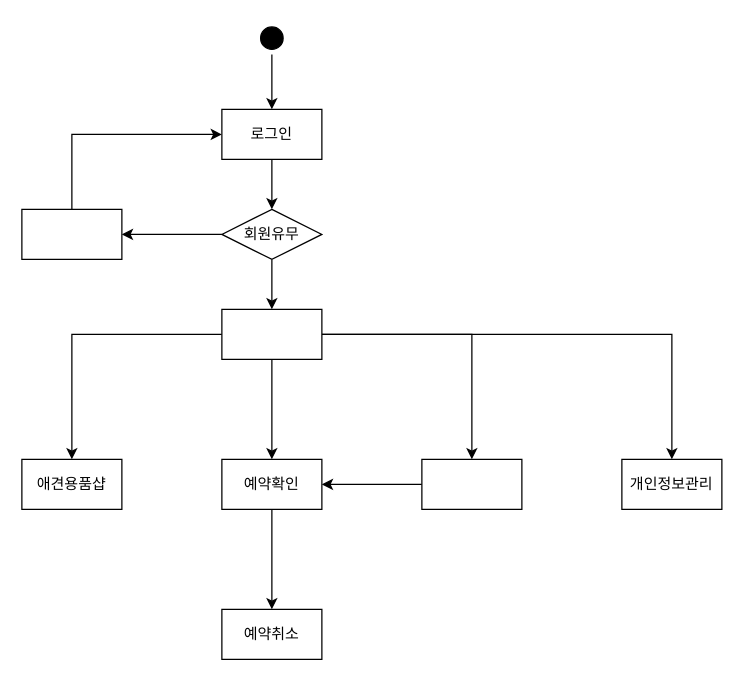
The diagram is 744 pixels wide and 681 high, and some of its shapes have lost their labels. Here are the shapes that lost their labels. From the top down, the centre of each, then its label:
the point at 71,233: 회원가입
the point at 271,333: Main
the point at 471,483: 예약
